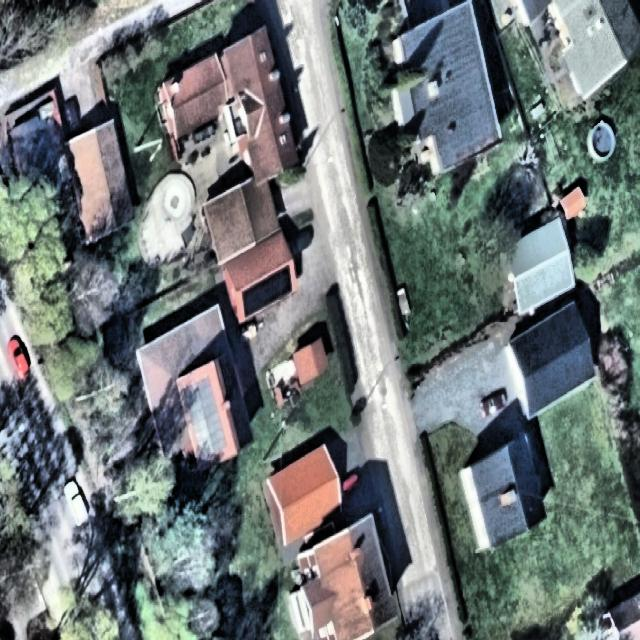roof_pv: (241, 278, 269, 318), (270, 264, 295, 305)
